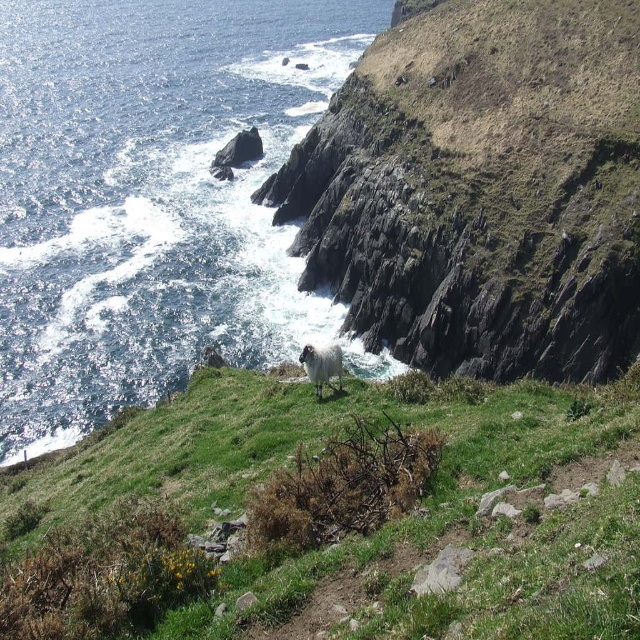Sheep: (299, 345, 343, 401)
